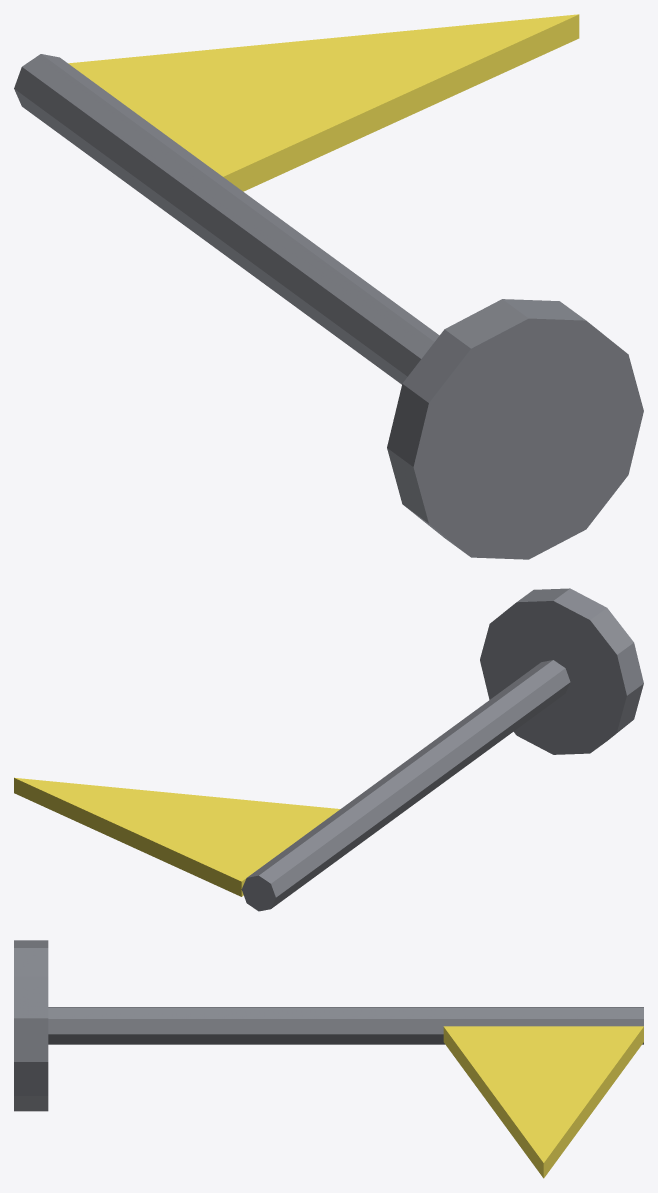
File: checkpoint_held.gltf
The picture shows the model from 3 angles, top to bottom: view 1: azimuth 30°, elevation 25°; view 2: azimuth 150°, elevation 25°; view 3: azimuth 270°, elevation 25°; orthographic projection. The views are drawn at different scales.
Parts seen in each view (by area): view 1: track_core_checkpoint_held; view 2: track_core_checkpoint_held; view 3: track_core_checkpoint_held.
Part boxes in pixels (left/top/right/bottom): track_core_checkpoint_held: left=14, top=14, right=643, bottom=559; track_core_checkpoint_held: left=14, top=588, right=643, bottom=911; track_core_checkpoint_held: left=14, top=940, right=643, bottom=1178.
Bounding box in the file's own units: 0.15 × 0.06 × 0.22.
